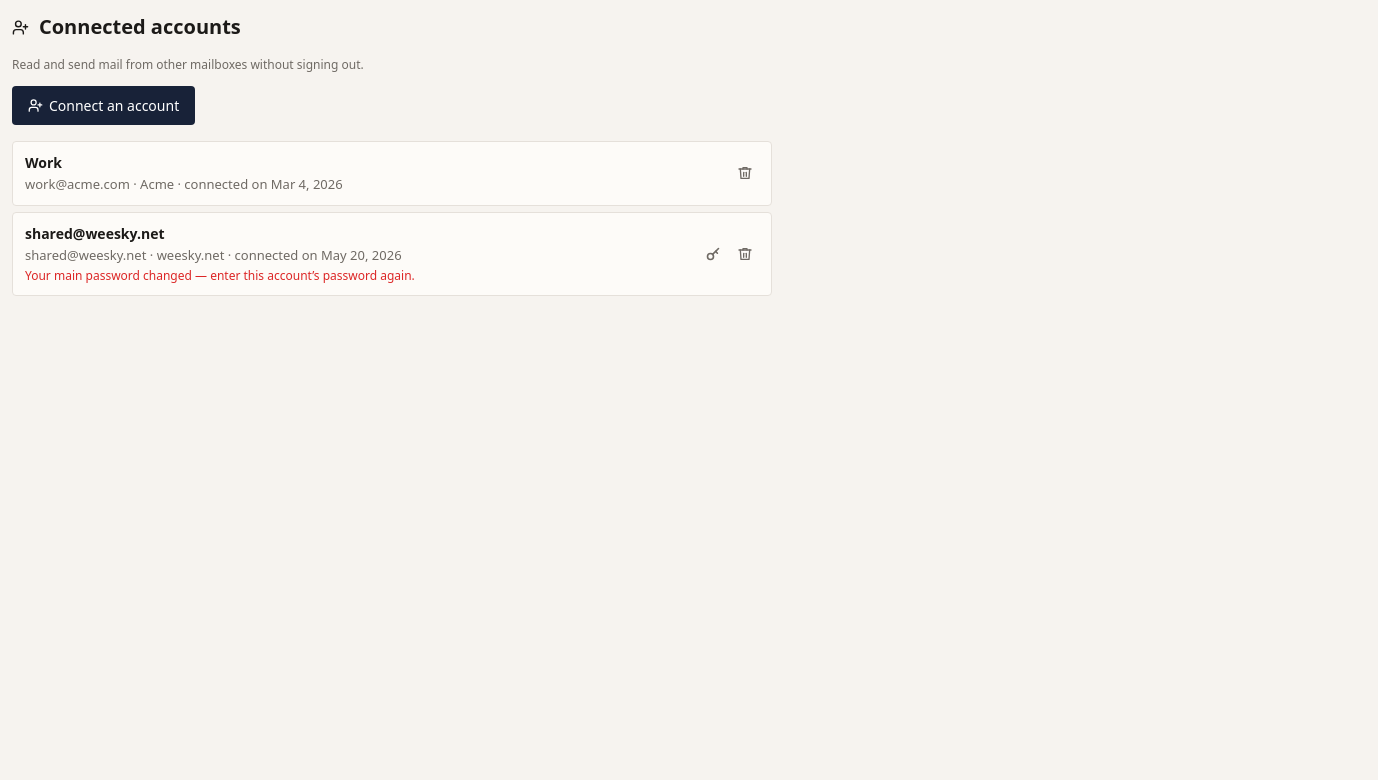
ConnectedAccountsPage › connects a local mailbox with no domain and closes the form
Click the button "Connect an account" at (104, 106), box top-left (12, 86), bottom-right (195, 125)
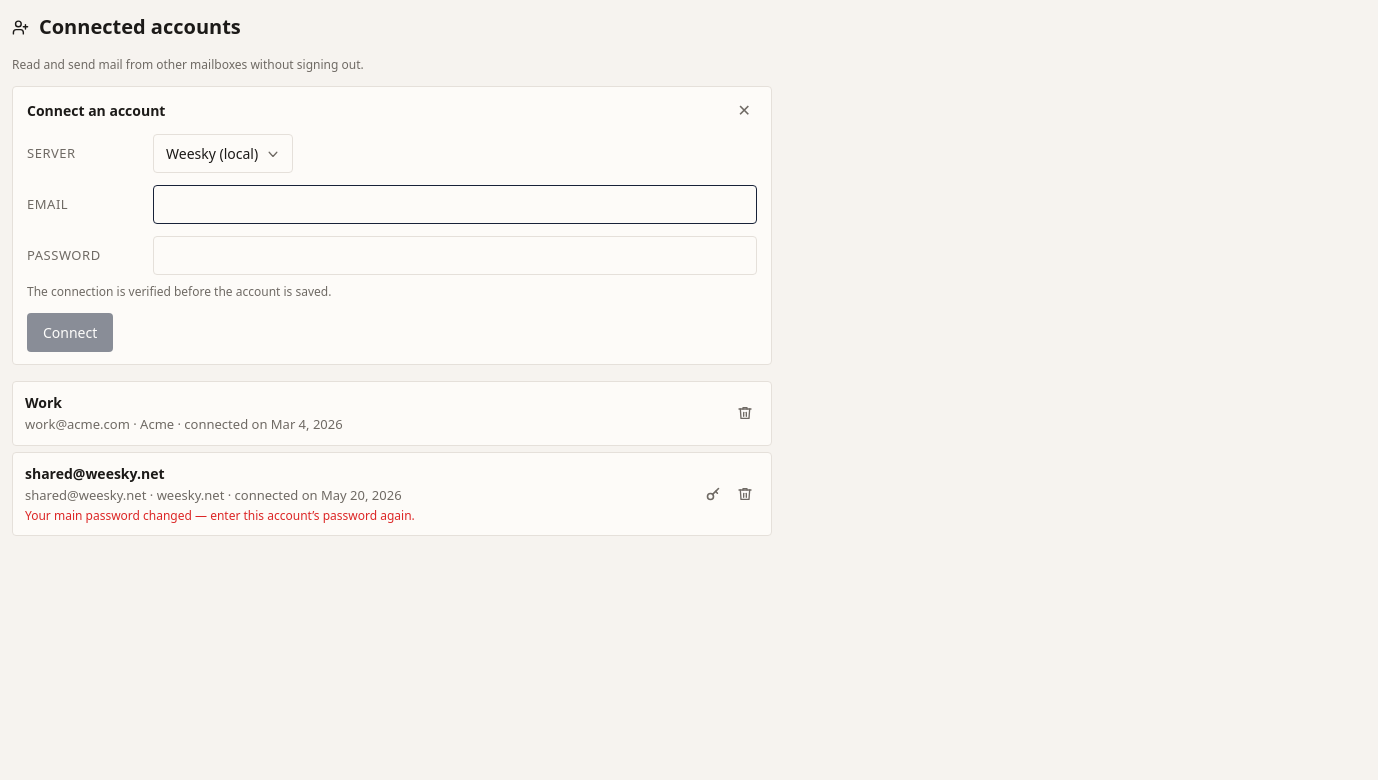
Type "other@weesky.net" into the field labelled "Email" at (455, 204), box top-left (153, 185), bottom-right (757, 224)
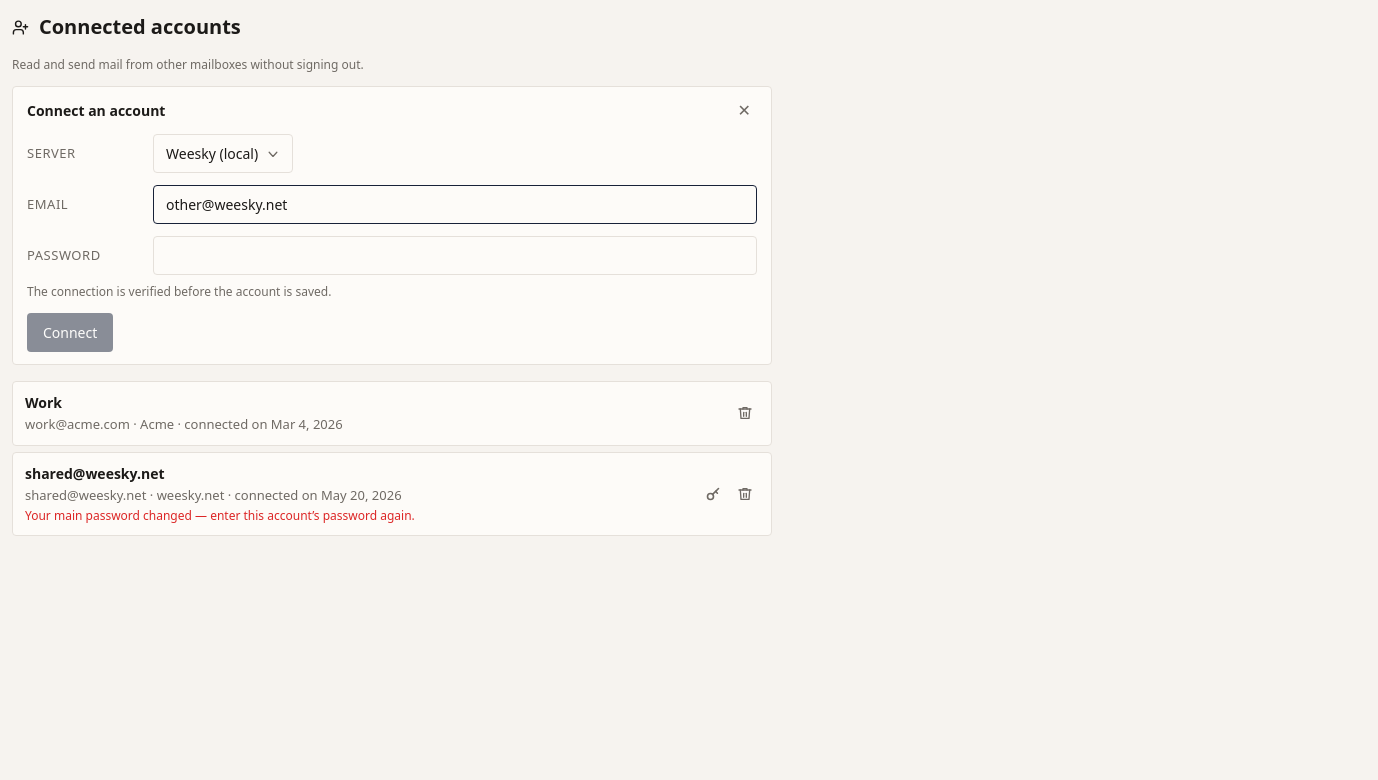
Type "secret" into the password field labelled "Password" at (455, 256), box top-left (153, 236), bottom-right (757, 275)
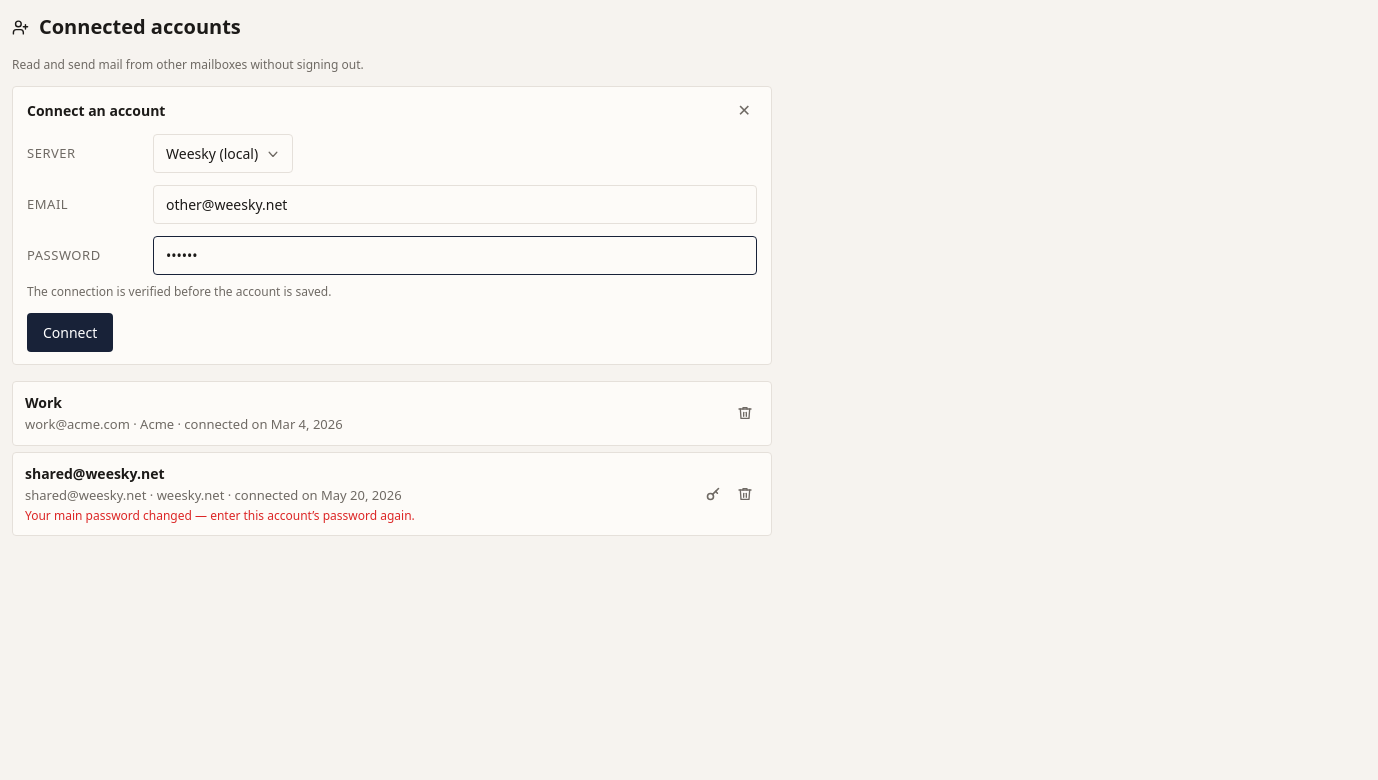
Click the button "Connect" at (70, 332), box top-left (27, 313), bottom-right (113, 352)
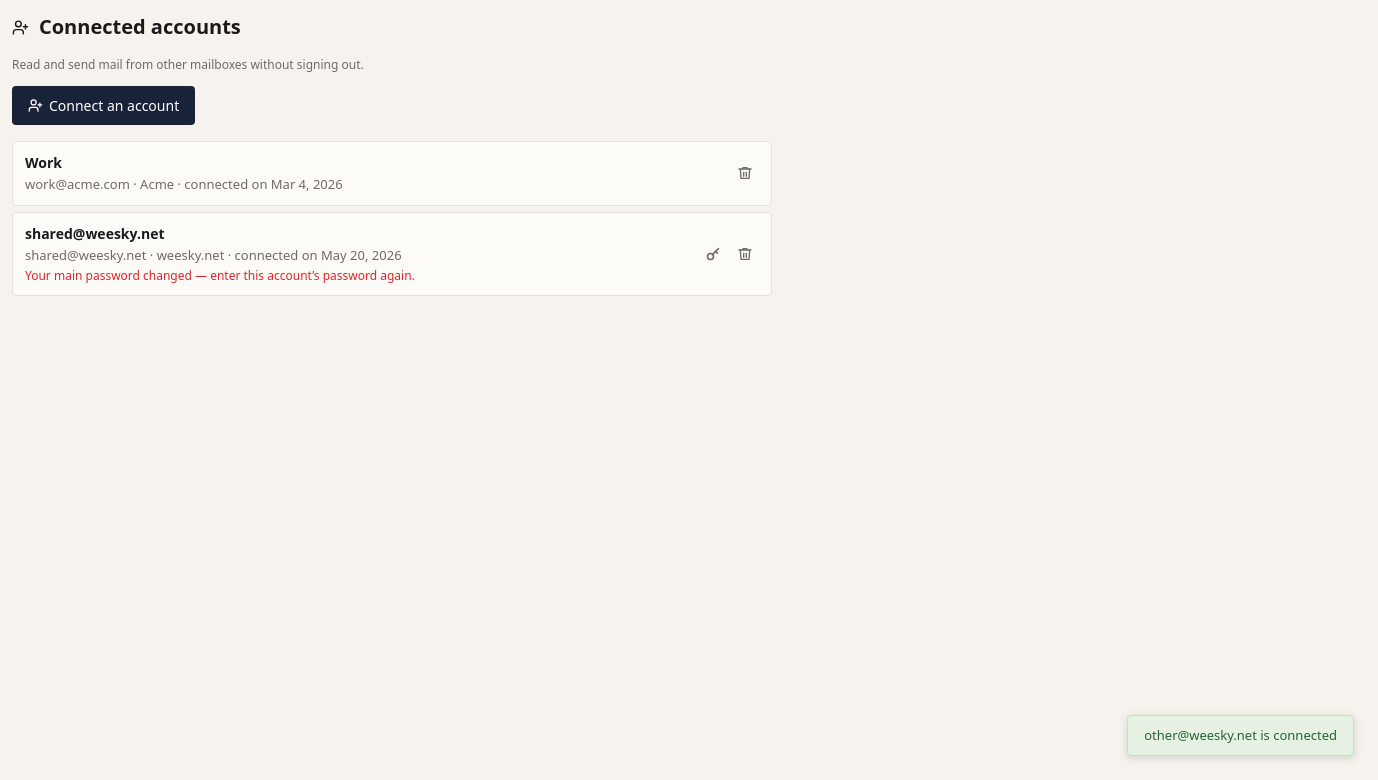
Now the label labelled "Email" is gone
